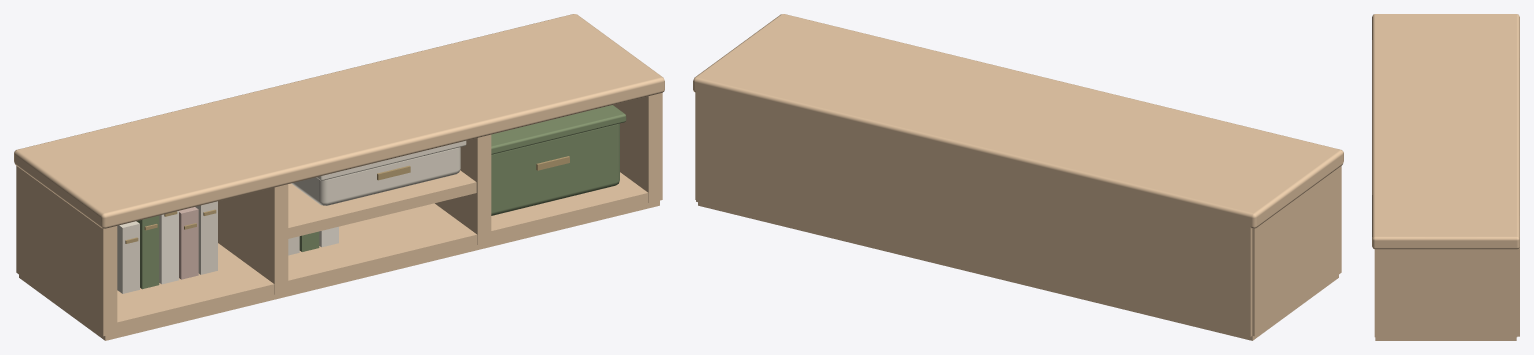
Rendered from bedroom_ref_bench.glb.
The picture shows the model from 3 angles, left to right: view 1: azimuth 30°, elevation 25°; view 2: azimuth 150°, elevation 25°; view 3: azimuth 270°, elevation 25°; orthographic projection. The views are drawn at different scales.
Size of the model in its own units: 2.45 by 0.5325 by 0.68.
